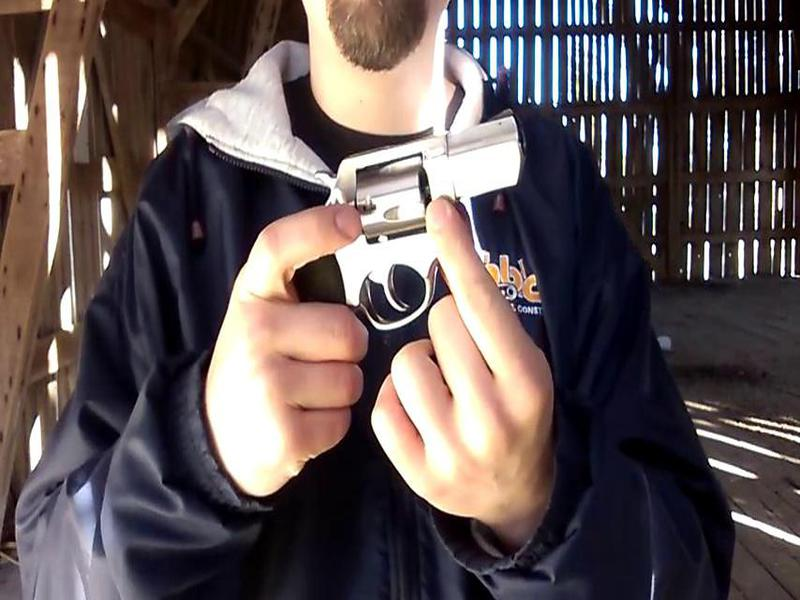Revolver: (269, 93, 566, 385)
